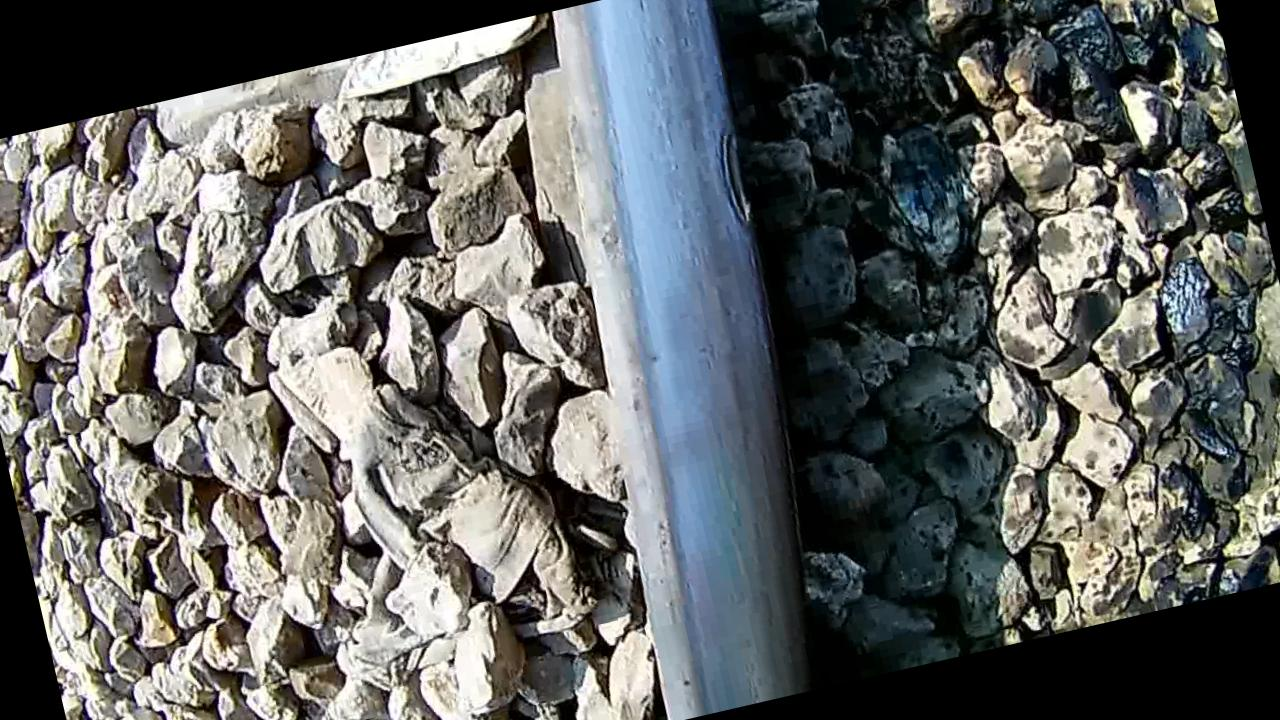crack: (700, 113, 764, 249)
